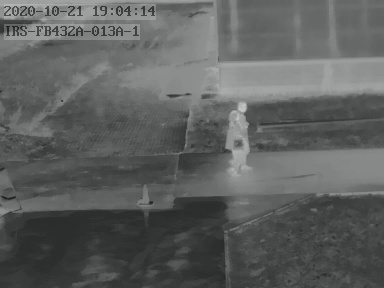person: (225, 103, 251, 173)
